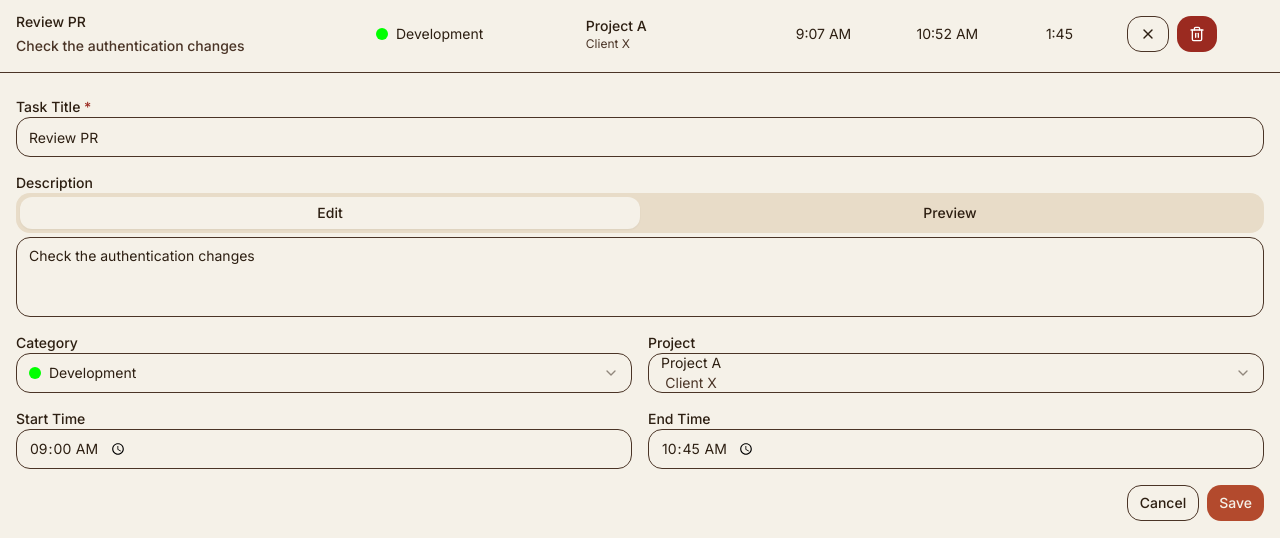
Test: ArchivedTaskRow › disables Save when the title is blank
Clear the field labelled "Task Title *": (640, 137) [16, 117, 1264, 157]
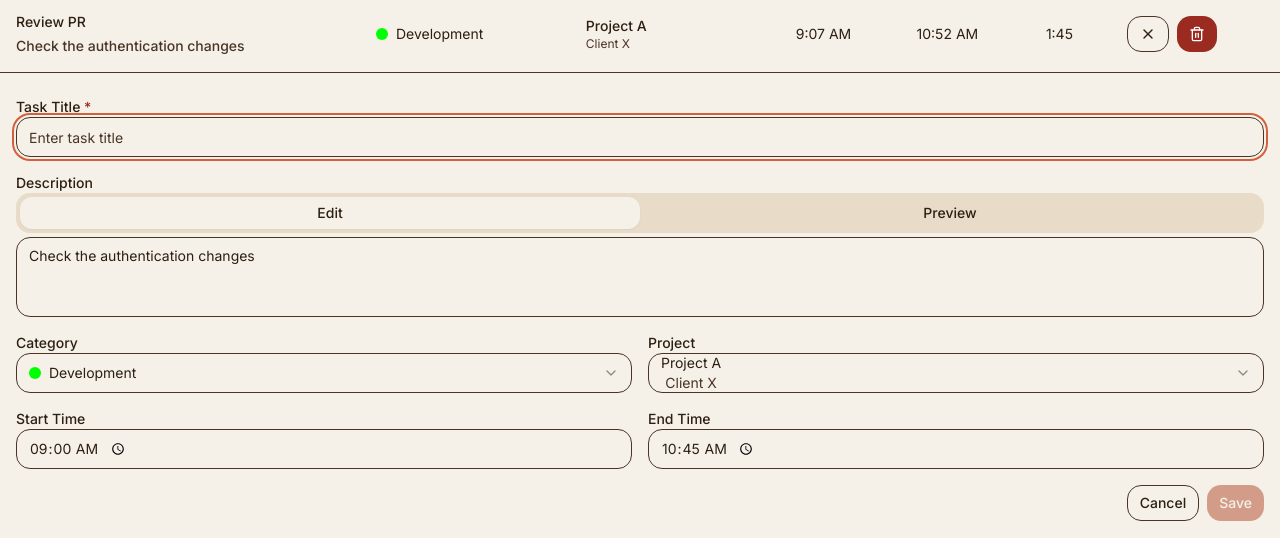
Expected: the button "Save" is disabled, [1207, 485, 1264, 521]
